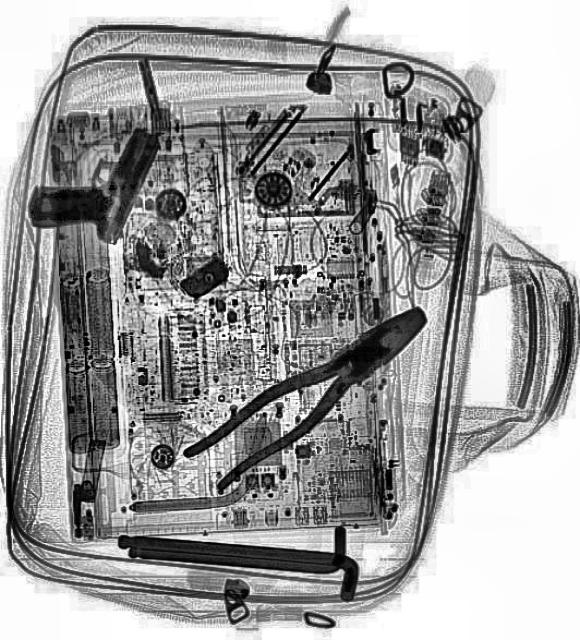Gun: (16, 94, 168, 262)
Pliers: (176, 288, 442, 497)
